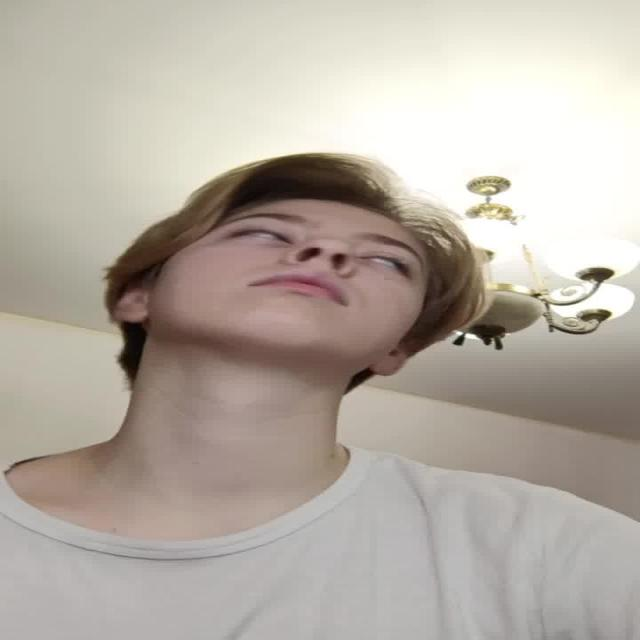earlobe: (117, 284, 148, 324), (369, 347, 409, 378)
